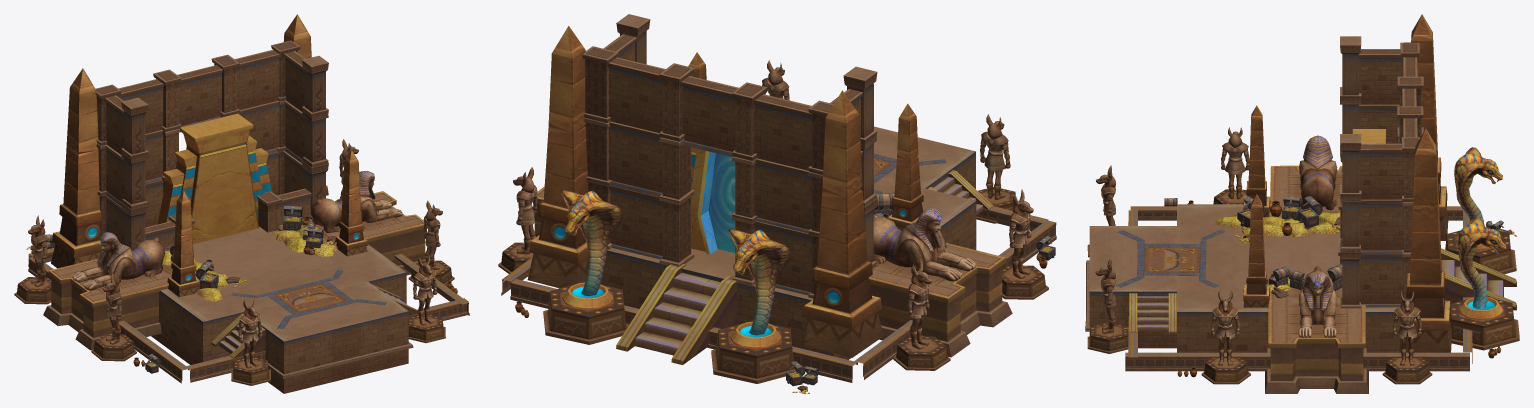
Rendered from boss_05.FBX.
The picture shows the model from 3 angles, left to right: view 1: azimuth 30°, elevation 25°; view 2: azimuth 150°, elevation 25°; view 3: azimuth 270°, elevation 25°; orthographic projection. The views are drawn at different scales.
Parts seen in each view (by area): view 1: boss_05; view 2: boss_05; view 3: boss_05.
Part boxes in pixels (x1,y1,x2,y2): boss_05: [14, 14, 469, 393]; boss_05: [498, 14, 1056, 393]; boss_05: [1085, 14, 1519, 393].
Bounding box in the file's own units: 5220 × 3199 × 5176.
